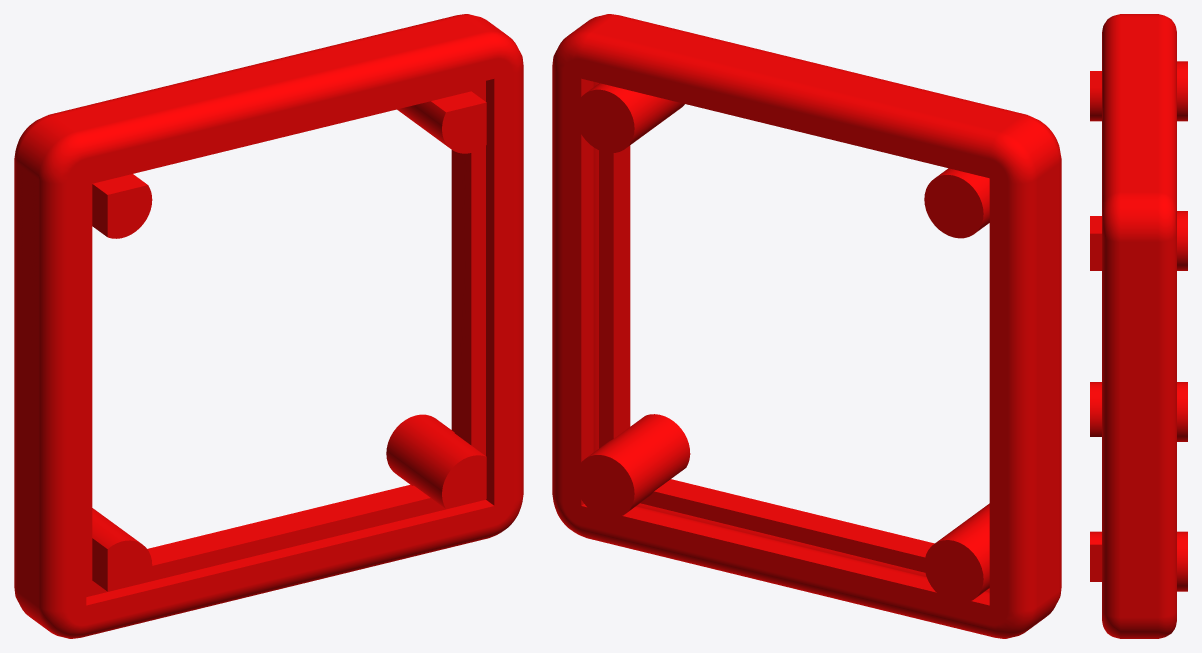
3 views of the same model, side by side, from view 1: azimuth 30°, elevation 25°; view 2: azimuth 150°, elevation 25°; view 3: azimuth 270°, elevation 25° (orthographic). The views are drawn at different scales.
Visible parts, largest first — view 1: Test Bot for advantge scope v1; view 2: Test Bot for advantge scope v1; view 3: Test Bot for advantge scope v1.
Boxes of the visible parts, <box> form: Test Bot for advantge scope v1: <box>14,14,523,638</box>; Test Bot for advantge scope v1: <box>552,14,1061,638</box>; Test Bot for advantge scope v1: <box>1090,14,1187,638</box>.
Bounding box in the file's own units: 0.827 × 0.827 × 0.1652.
